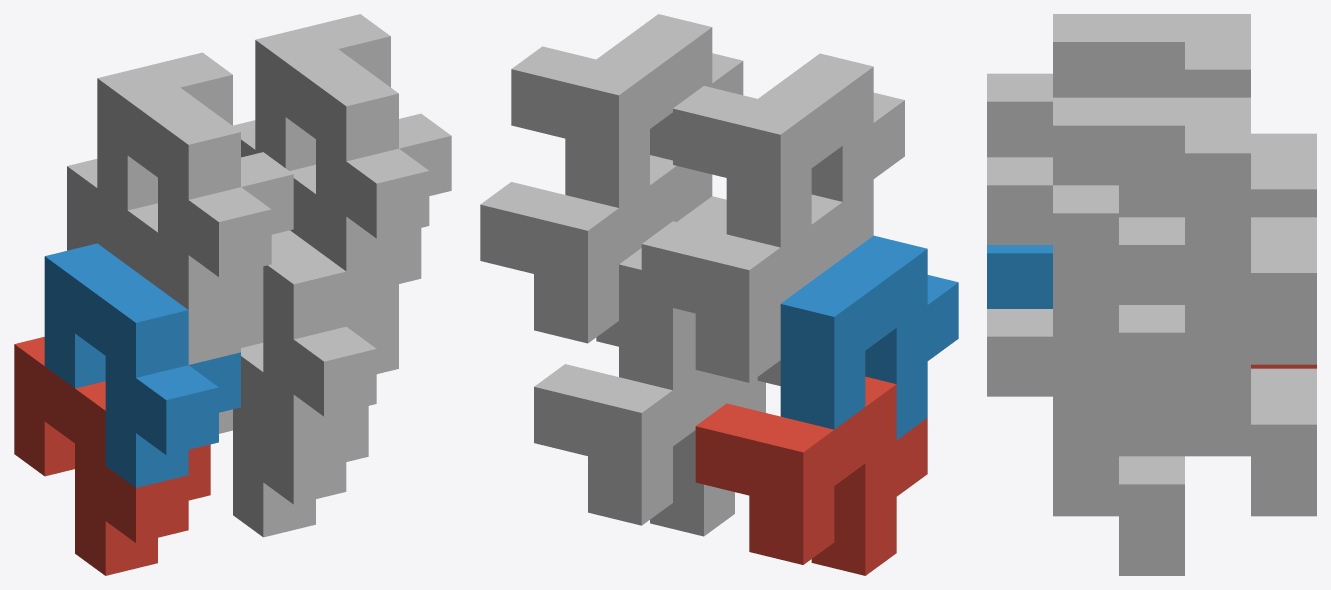
Rendered from tiling.obj.
3 renders of one model, left to right at view 1: azimuth 30°, elevation 25°; view 2: azimuth 150°, elevation 25°; view 3: azimuth 270°, elevation 25°, orthographic. The views are drawn at different scales.
Visible parts, largest first — view 1: copy_1_domain_4, copy_1_domain_8, copy_1_domain_2, copy_1_domain_6, copy_1_domain_1, copy_1_domain_5, copy_1_domain_3, copy_1_domain_7; view 2: copy_1_domain_4, copy_1_domain_1, copy_1_domain_8, copy_1_domain_2, copy_1_domain_5, copy_1_domain_3, copy_1_domain_7, copy_1_domain_6; view 3: copy_1_domain_8, copy_1_domain_7, copy_1_domain_5, copy_1_domain_4, copy_1_domain_6, copy_1_domain_3, copy_1_domain_2.
Boxes of the visible parts, x1,y1,x2,y2 form: copy_1_domain_4: (97, 52, 293, 309); copy_1_domain_8: (255, 14, 451, 271); copy_1_domain_2: (44, 243, 240, 487); copy_1_domain_6: (241, 230, 398, 449); copy_1_domain_1: (14, 337, 210, 575); copy_1_domain_5: (219, 343, 368, 537); copy_1_domain_3: (67, 159, 263, 364); copy_1_domain_7: (233, 120, 421, 326); copy_1_domain_4: (673, 53, 904, 257); copy_1_domain_1: (695, 376, 927, 575); copy_1_domain_8: (511, 14, 743, 218); copy_1_domain_2: (780, 235, 958, 439); copy_1_domain_5: (534, 364, 765, 536); copy_1_domain_3: (641, 194, 842, 385); copy_1_domain_7: (480, 155, 681, 346); copy_1_domain_6: (619, 196, 761, 400); copy_1_domain_8: (987, 97, 1250, 304); copy_1_domain_7: (1053, 217, 1316, 424); copy_1_domain_5: (1053, 368, 1316, 575); copy_1_domain_4: (987, 14, 1250, 157); copy_1_domain_6: (987, 305, 1250, 456); copy_1_domain_3: (1119, 133, 1316, 217); copy_1_domain_2: (987, 245, 1052, 308).
Size of the model in its own units: 6 by 8 by 5.
